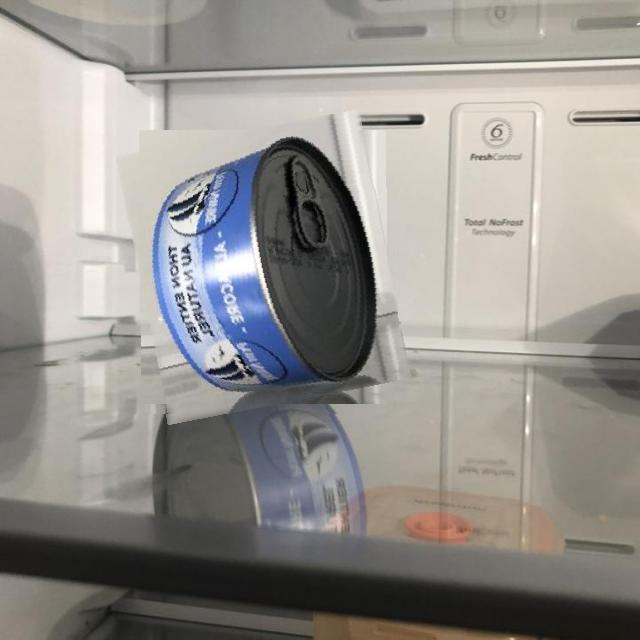recyclable: (128, 120, 399, 414)
